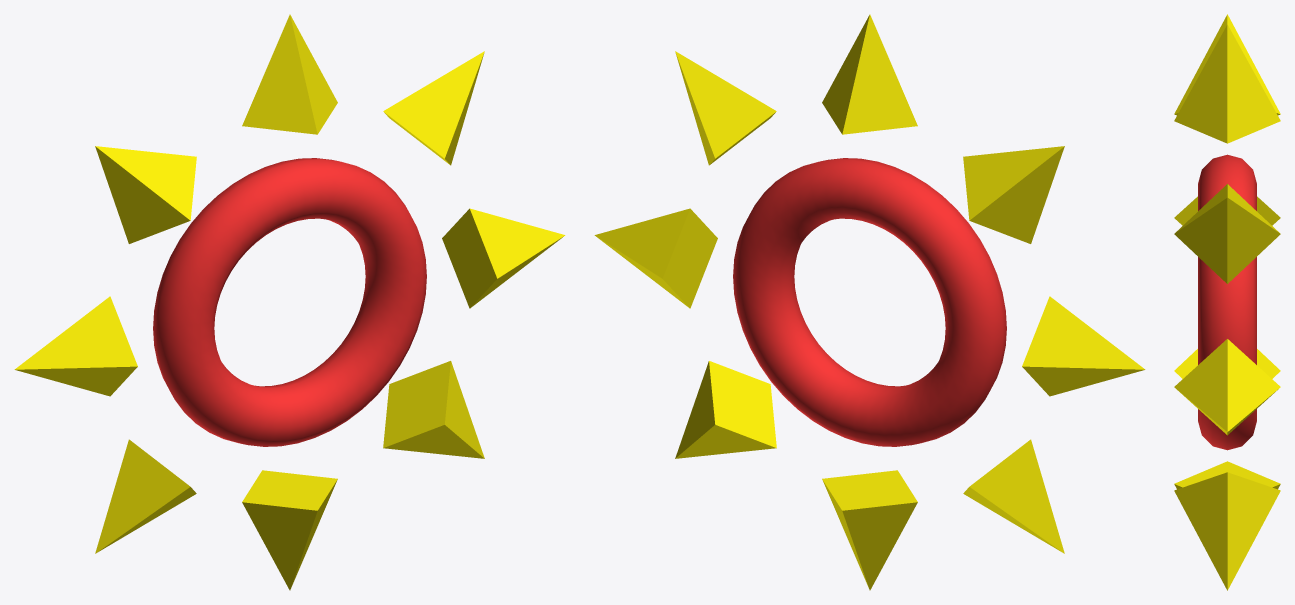
Rendered from Sun.obj.
The picture shows the model from 3 angles, left to right: view 1: azimuth 30°, elevation 25°; view 2: azimuth 150°, elevation 25°; view 3: azimuth 270°, elevation 25°; orthographic projection. The views are drawn at different scales.
Visible parts, largest first — view 1: 円錐.004; view 2: 円錐.004; view 3: 円錐.004.
Boxes of the visible parts, box(x1,y1,x2,y2) form: 円錐.004: box(14, 14, 565, 590); 円錐.004: box(594, 14, 1145, 590); 円錐.004: box(1174, 14, 1280, 590).
Size of the model in its own units: 40.46 by 40.46 by 7.04.
Materials: 1 (1 with a texture image).
